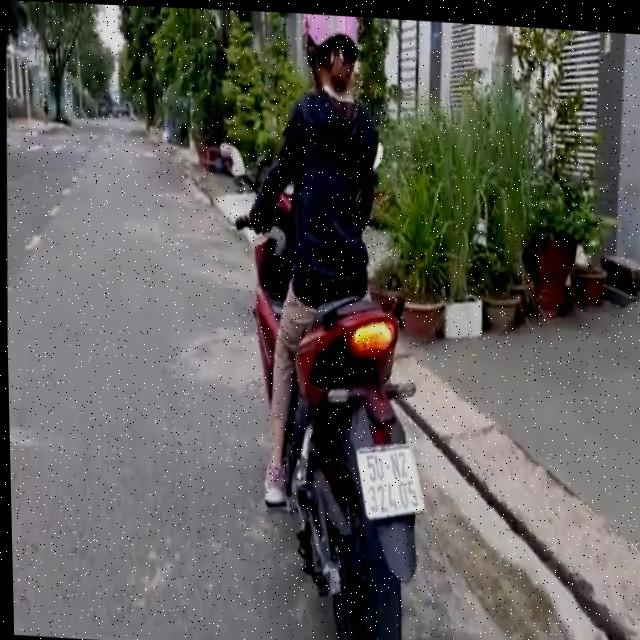motorcycle: (206, 124, 438, 640)
plate: (353, 439, 425, 526)
